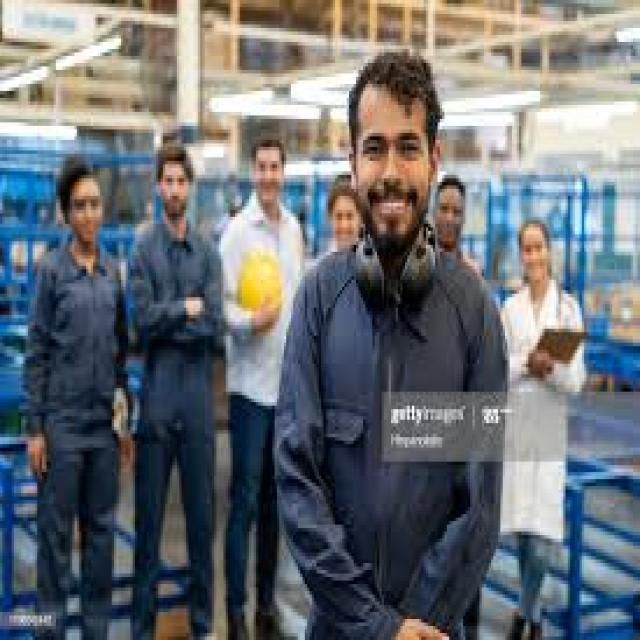Ear-protection: (394, 231, 436, 315), (349, 228, 386, 312)
head_helmet: (230, 234, 282, 326)
person: (281, 44, 509, 640), (126, 143, 226, 640), (27, 160, 126, 626), (228, 140, 308, 640), (506, 226, 582, 640)
